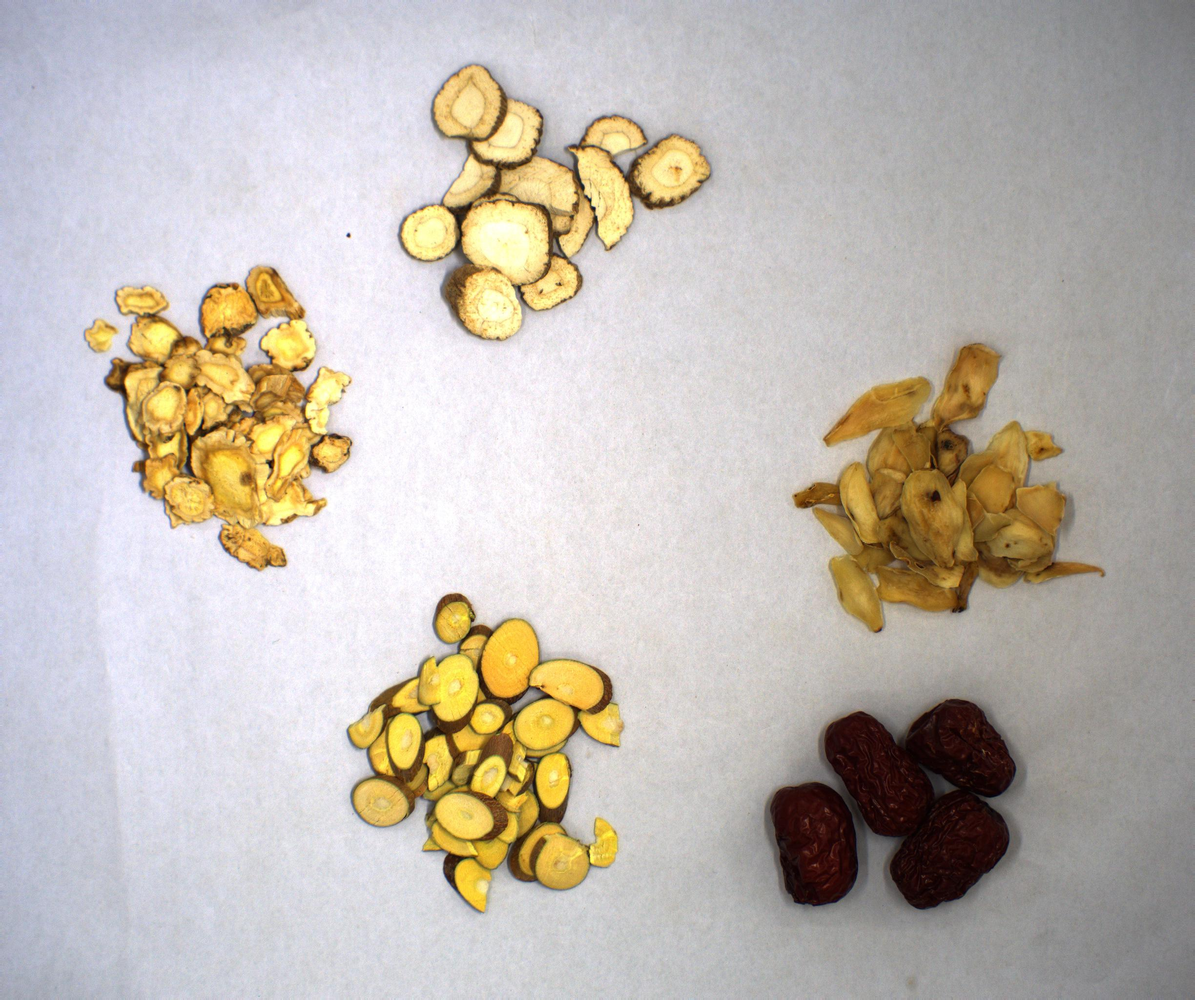baihe: (792, 338, 1108, 637)
baizhi: (394, 62, 714, 347)
dazao: (769, 695, 1024, 911)
jiegeng: (81, 264, 357, 575)
sangzhi: (346, 593, 629, 915)
